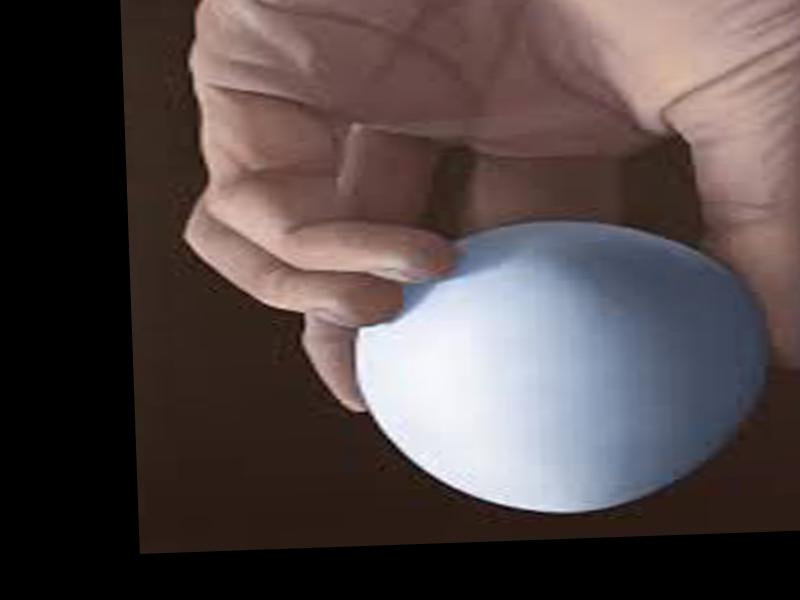Eggs: (346, 217, 769, 522)
